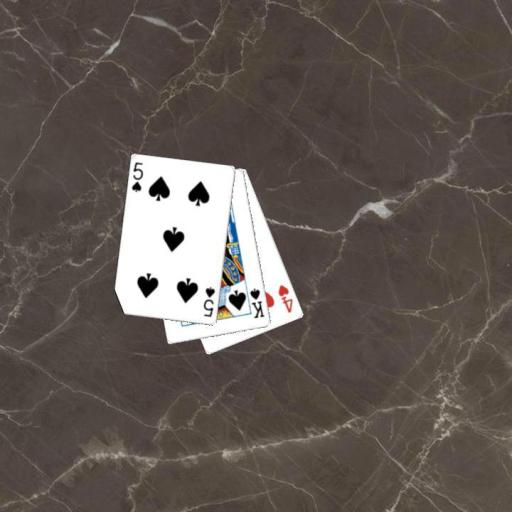4H: (276, 282, 295, 314)
5S: (200, 284, 217, 319), (129, 159, 145, 194)
KS: (247, 285, 266, 320)
